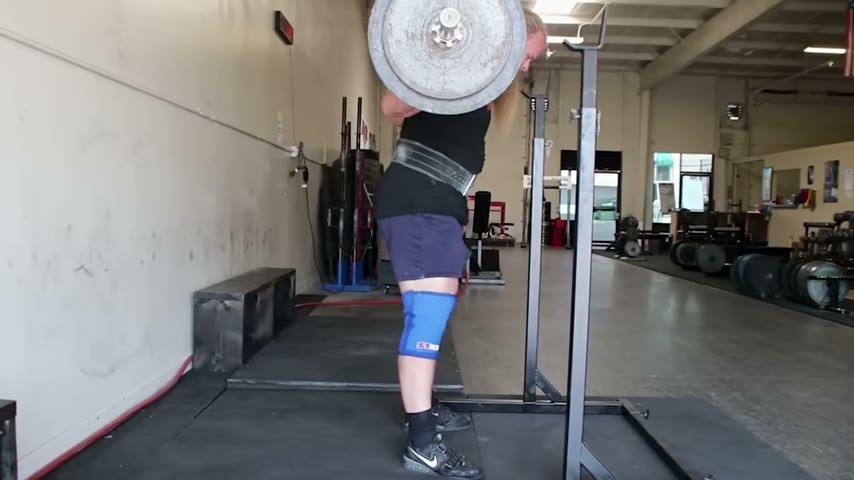barbell_plate_side: (361, 0, 416, 123)
